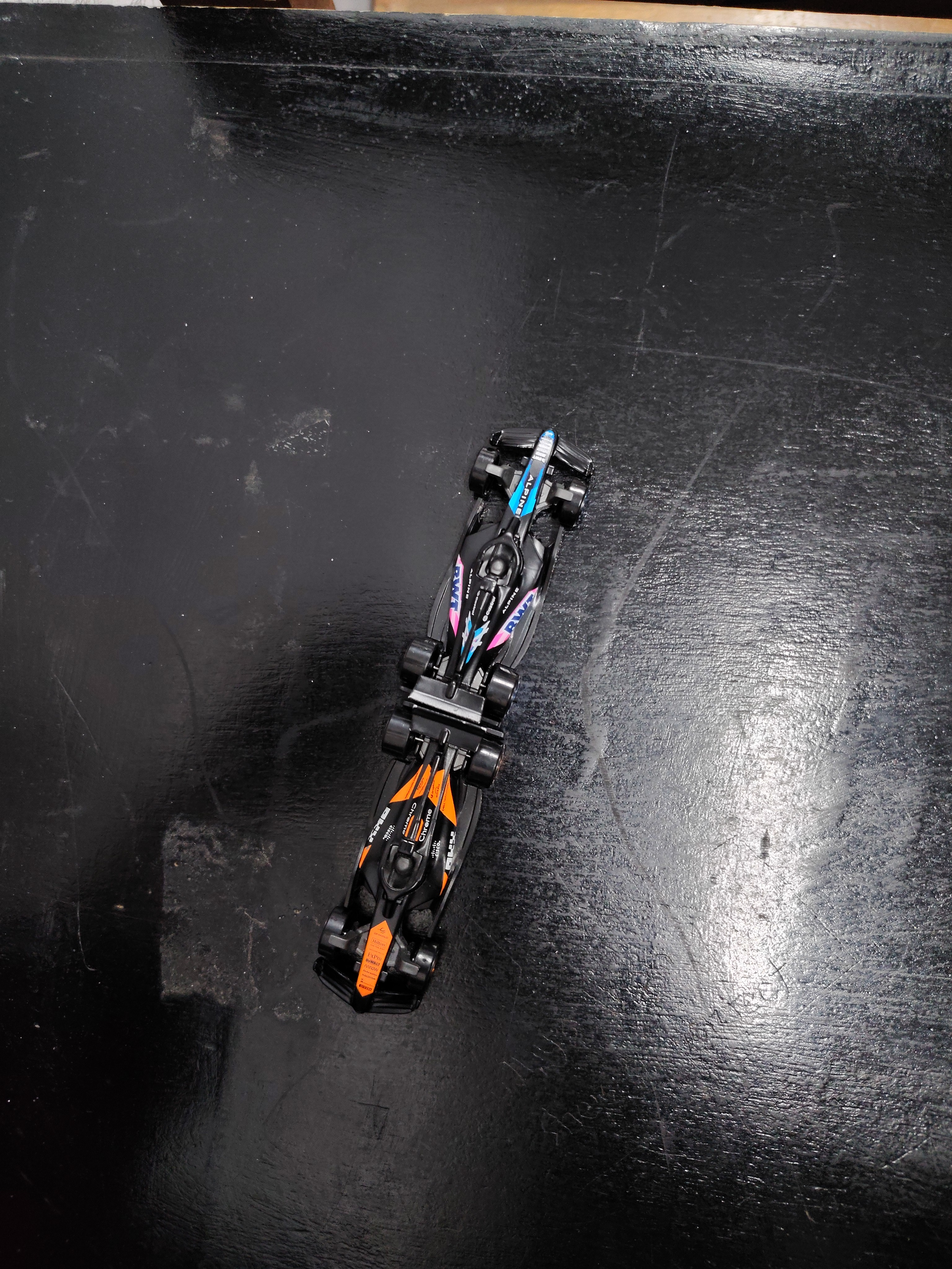Alpine A524: (395, 381, 640, 706)
McLaren MCL40: (341, 686, 500, 1008)
